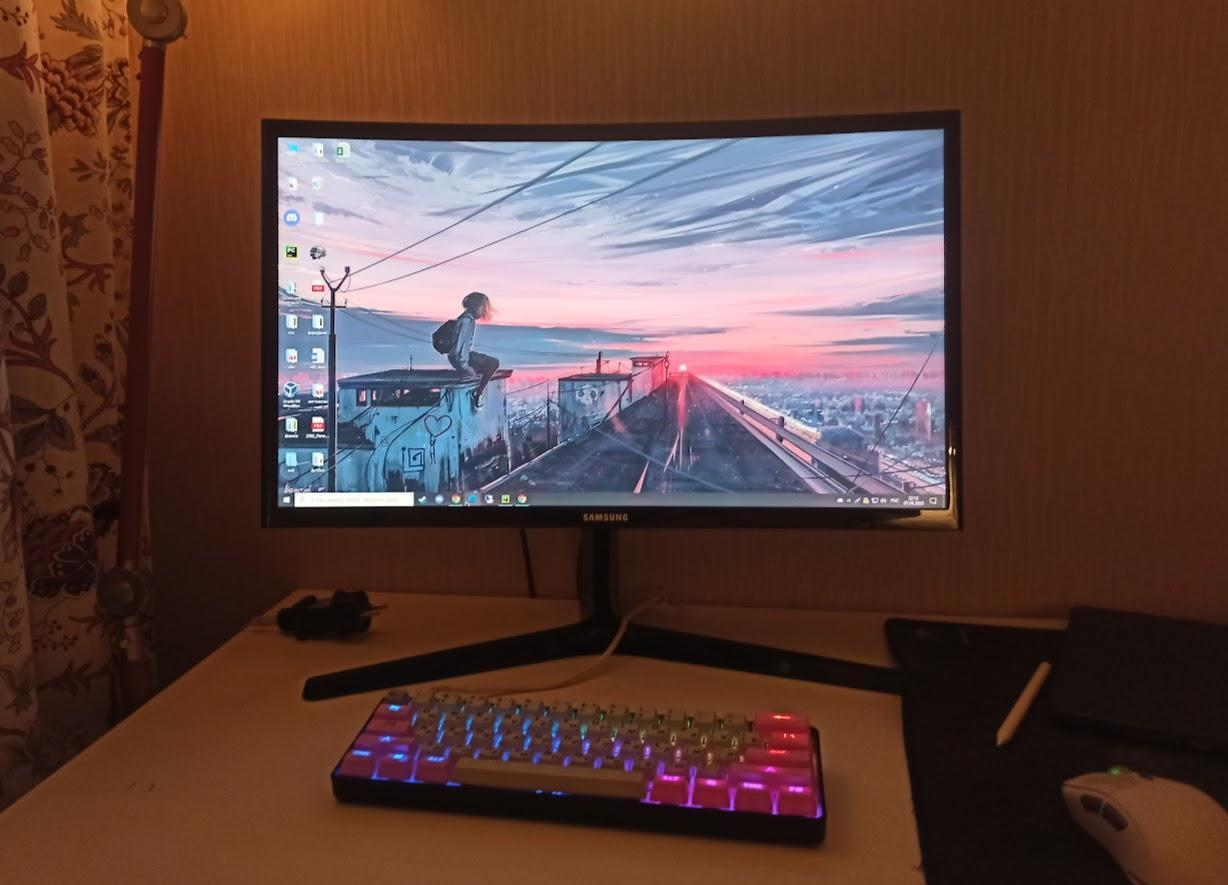monitor: (251, 103, 966, 531)
